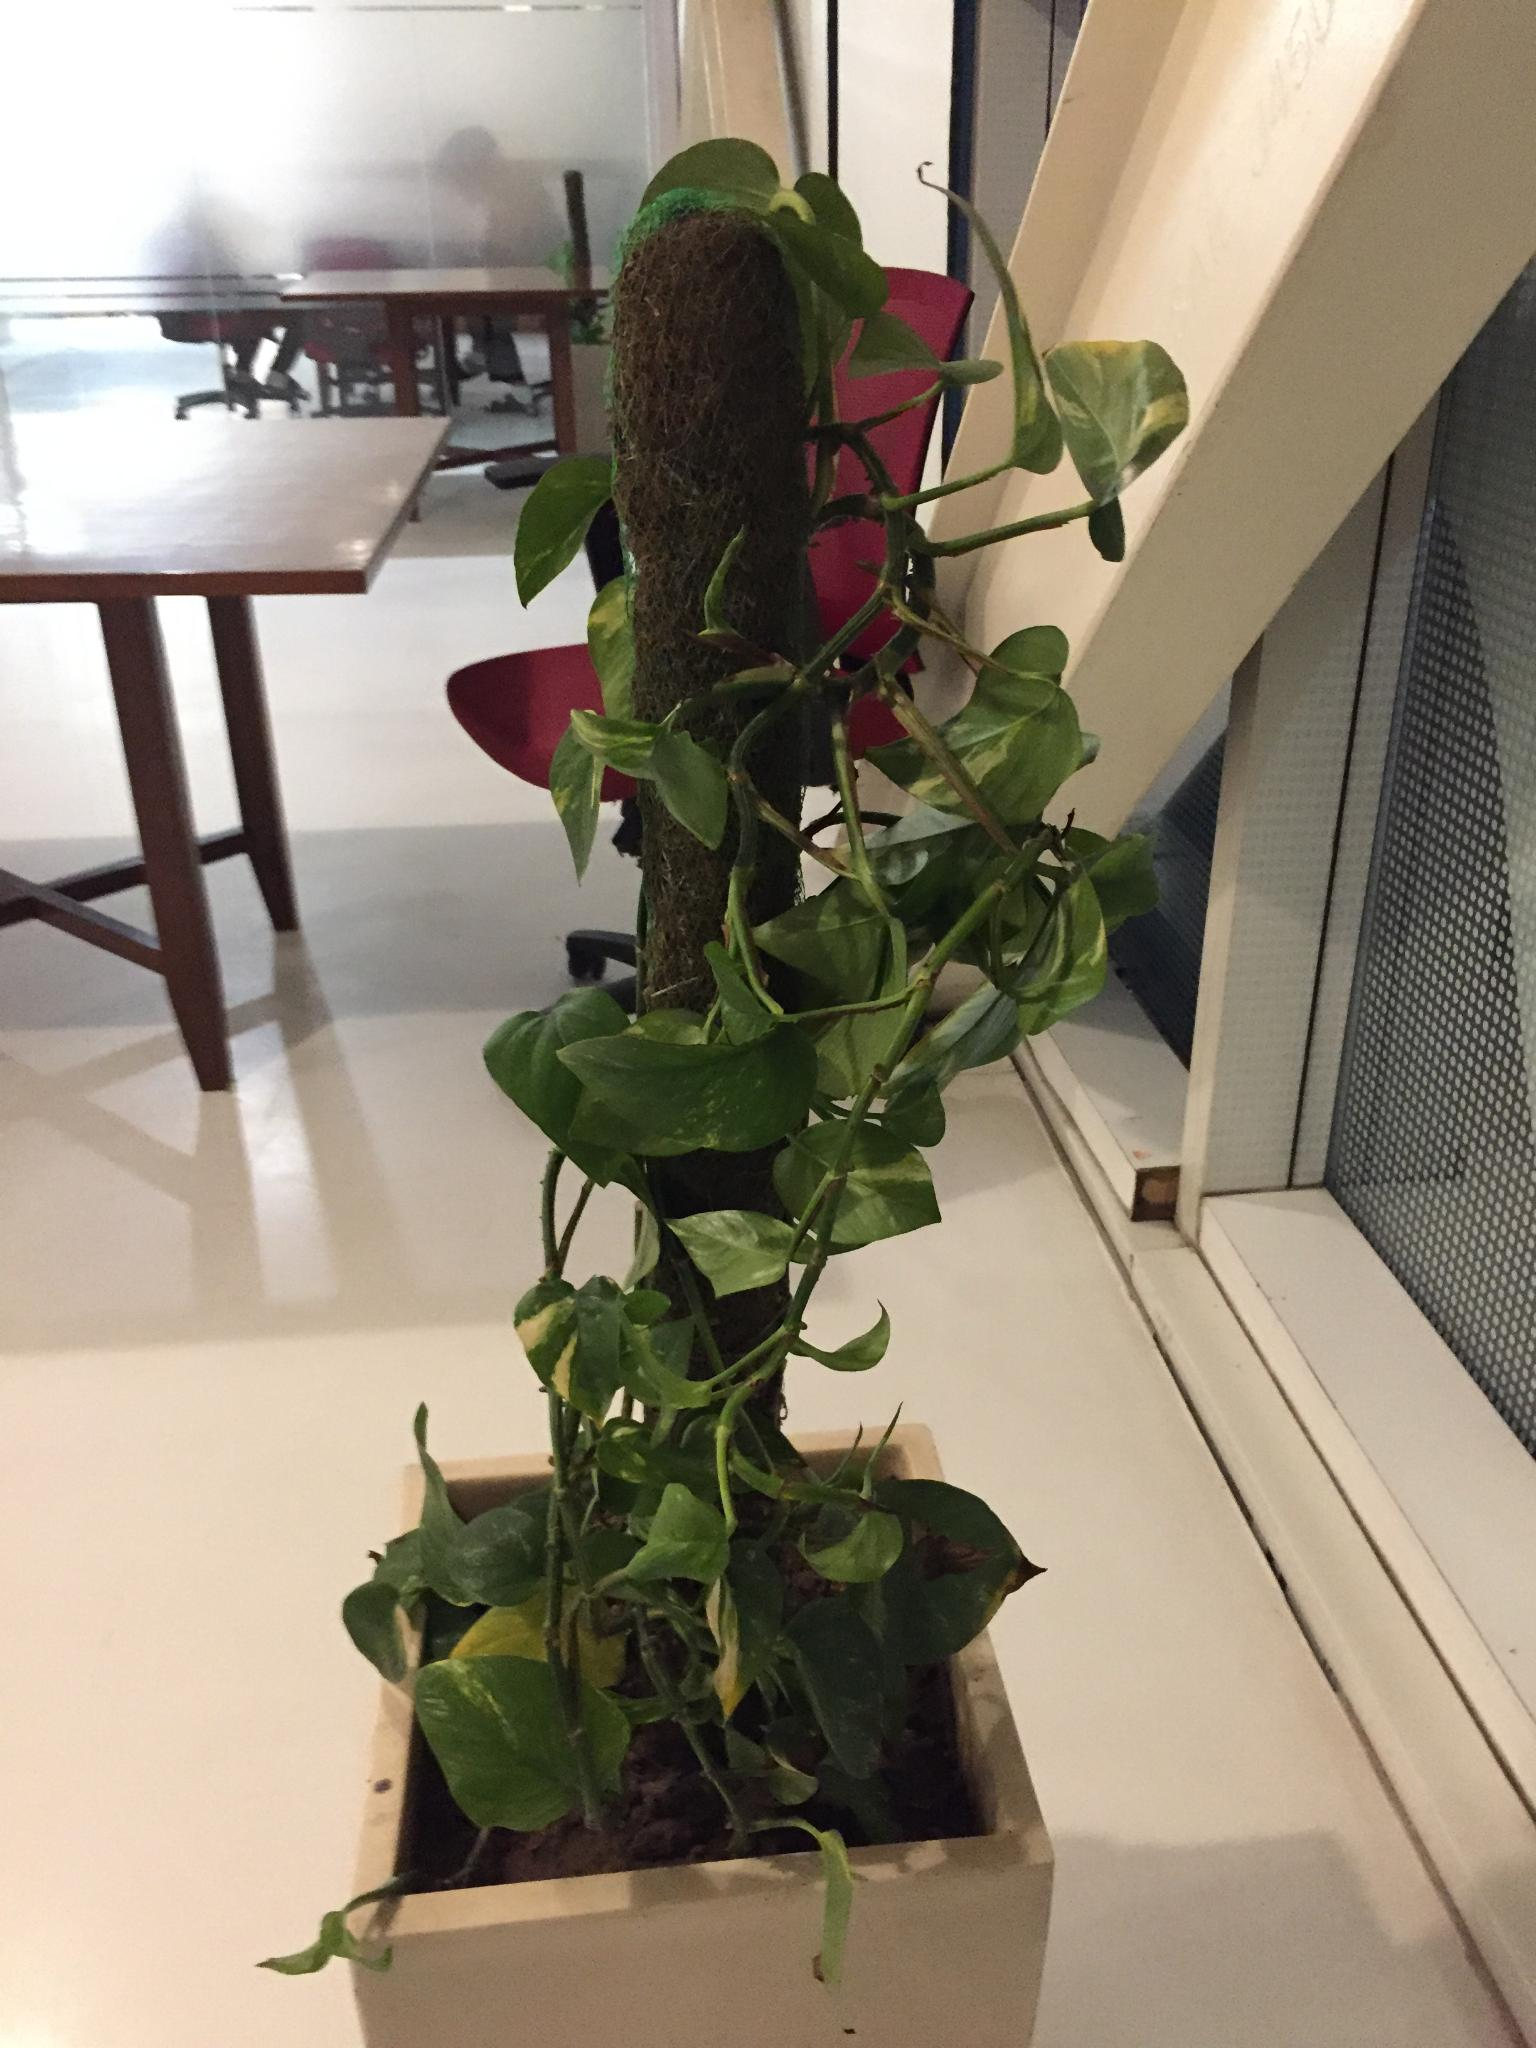chair: (445, 263, 978, 1011)
